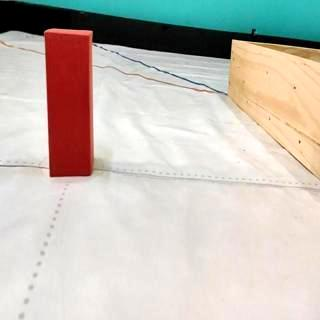redbox: (42, 27, 92, 177)
